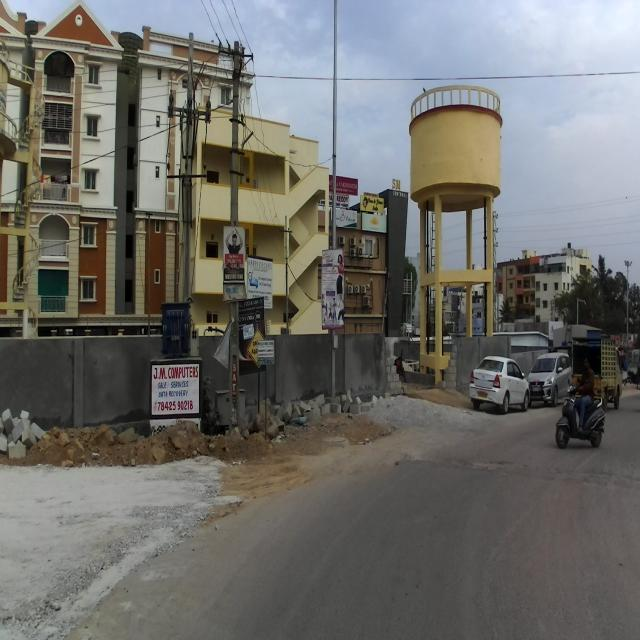car ahead at: (469, 352, 536, 420)
electric pole ahead at: (214, 24, 257, 439)
motorcycle ahead at: (554, 386, 608, 458)
stones ahead at: (267, 387, 364, 427)
